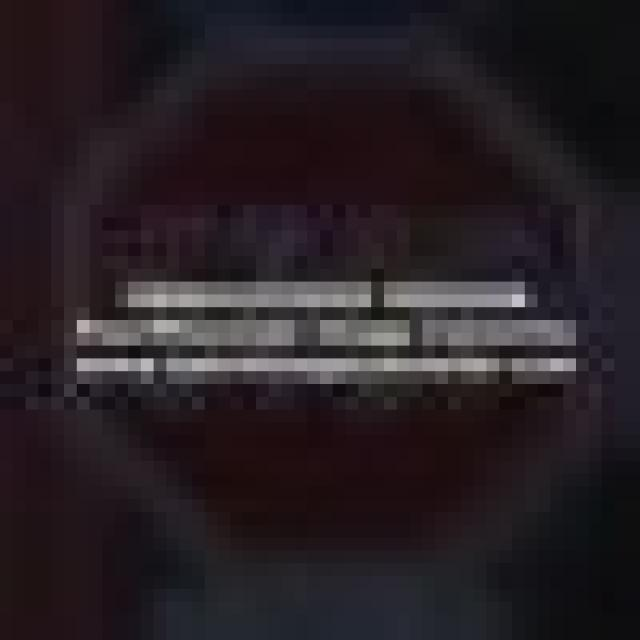STOP: (51, 25, 589, 538)
